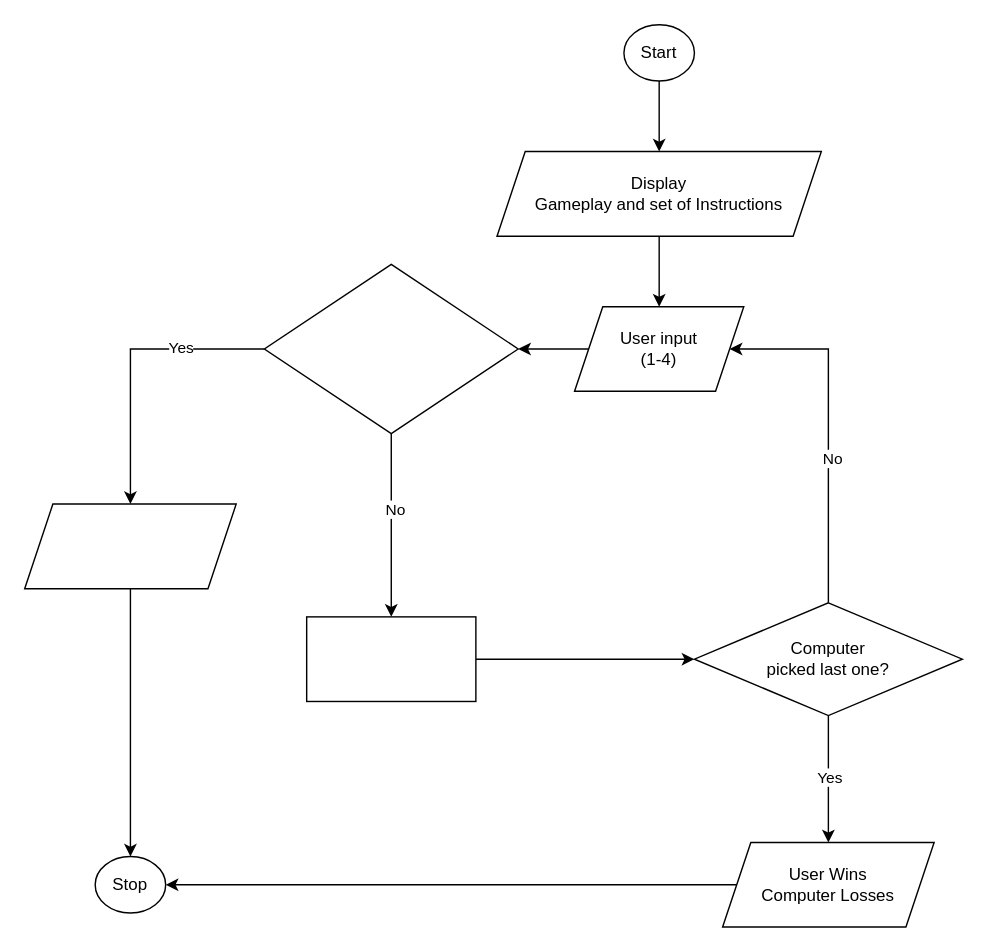
Some shapes in this 987 by 952 pixel diagram are drawn without their labels. Here are the shapes that lost their labels. From the top down, the centre of each, then its label:
At point 390,348: "User picked last one?".
At point 129,546: "User Losses Computer Wins".
At point 390,658: "Computer picks".
